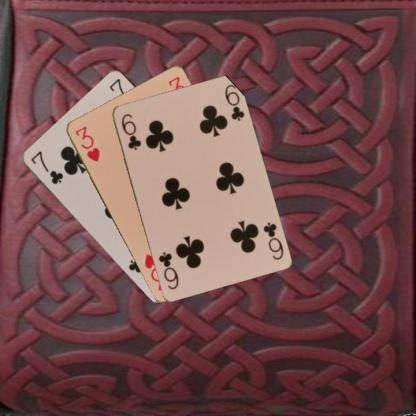3h: (72, 124, 101, 163)
6c: (260, 219, 284, 261), (119, 111, 142, 151)
7c: (27, 148, 64, 185)
